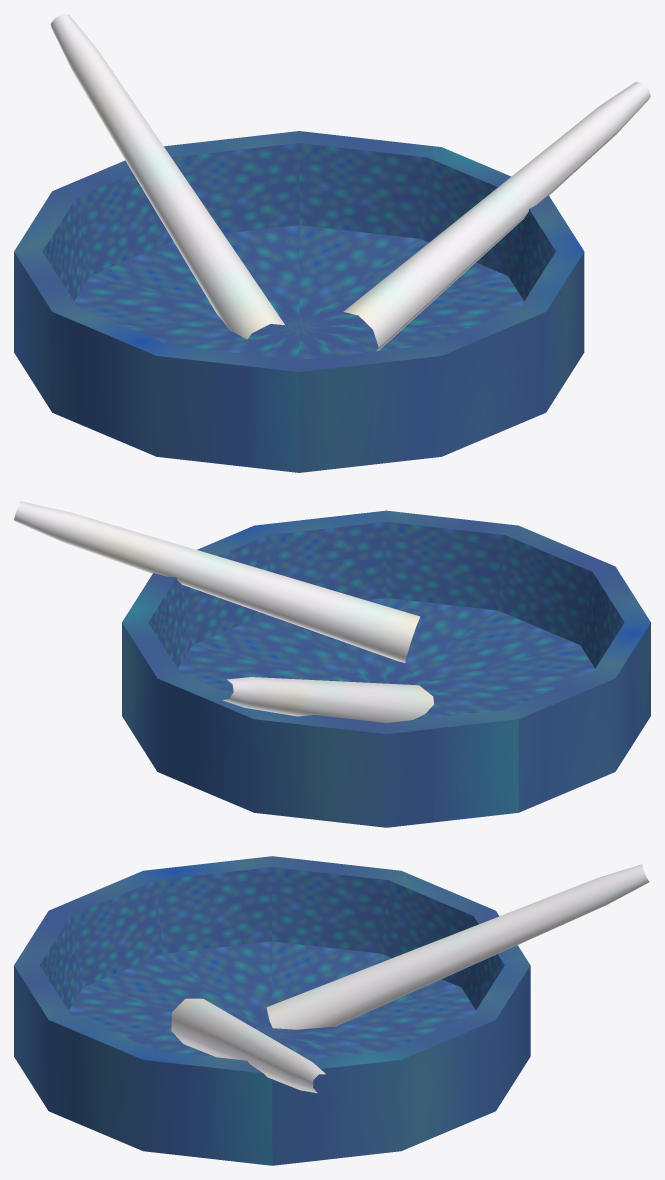
Rendered from 4deb1bb5-c39d-44b0-a7ca-32ee64026928.glb.
The picture shows the model from 3 angles, top to bottom: view 1: azimuth 30°, elevation 25°; view 2: azimuth 150°, elevation 25°; view 3: azimuth 270°, elevation 25°; orthographic projection. The views are drawn at different scales.
Parts seen in each view (by area): view 1: SmokingAccesories05; view 2: SmokingAccesories05; view 3: SmokingAccesories05.
Part boxes in pixels (x1,y1,x2,y2): SmokingAccesories05: [14, 14, 650, 472]; SmokingAccesories05: [14, 501, 650, 827]; SmokingAccesories05: [14, 856, 649, 1165].
Size of what is drawn, in the model's own units: 0.2501 by 0.0781 by 0.2452.
1 material, 1 textured.
